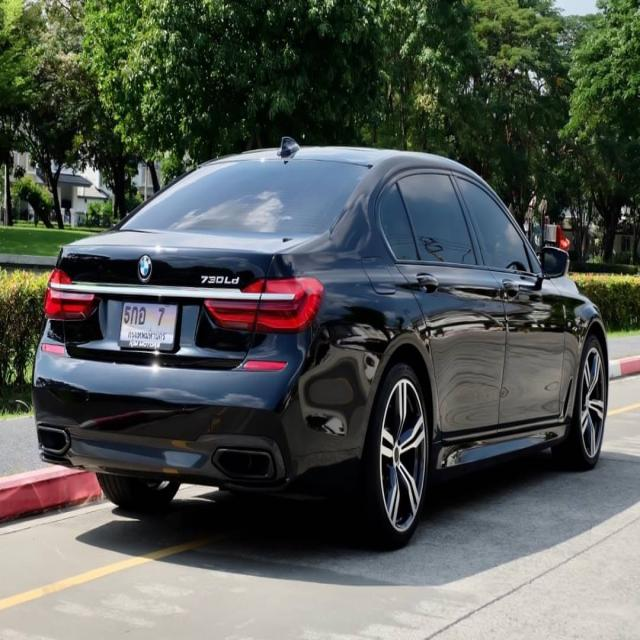license_plate: (120, 296, 178, 350)
